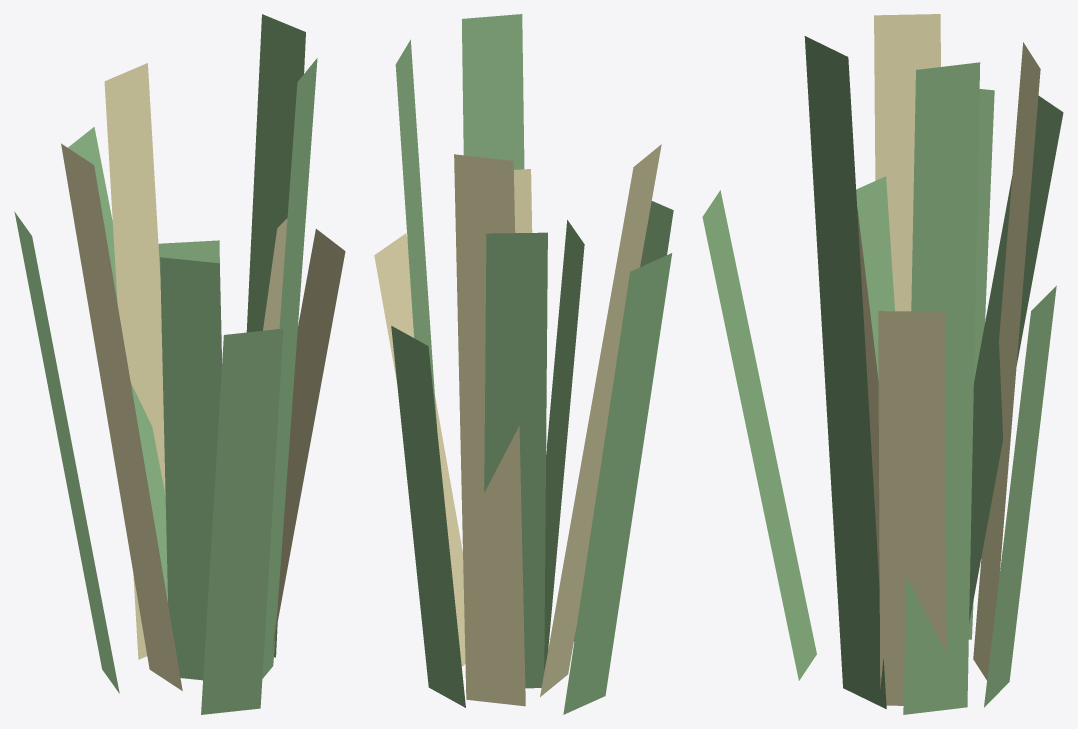
File: plant_reeds_b.glb
3 views of the same model, side by side, from view 1: azimuth 30°, elevation 25°; view 2: azimuth 150°, elevation 25°; view 3: azimuth 270°, elevation 25° (orthographic). The views are drawn at different scales.
Visible parts, largest first — view 1: plant_reeds_b; view 2: plant_reeds_b; view 3: plant_reeds_b.
Part boxes in pixels (box(x1,y1,x2,y2)): plant_reeds_b: box(14, 14, 345, 714); plant_reeds_b: box(374, 14, 673, 714); plant_reeds_b: box(702, 14, 1063, 714).
Bounding box in the file's own units: 1.09 × 2.21 × 1.08.
